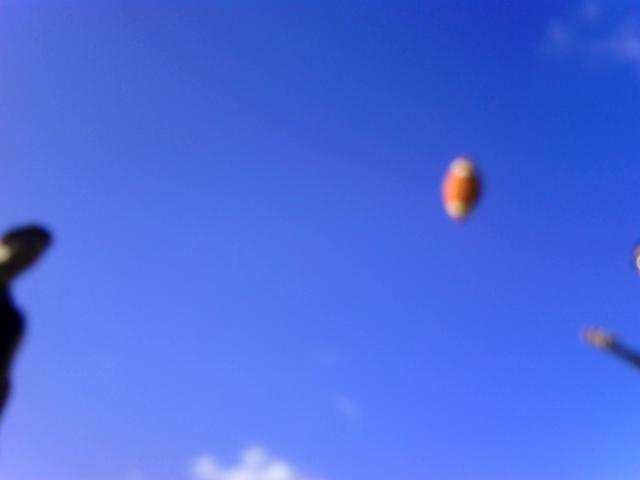football: (437, 155, 487, 224)
